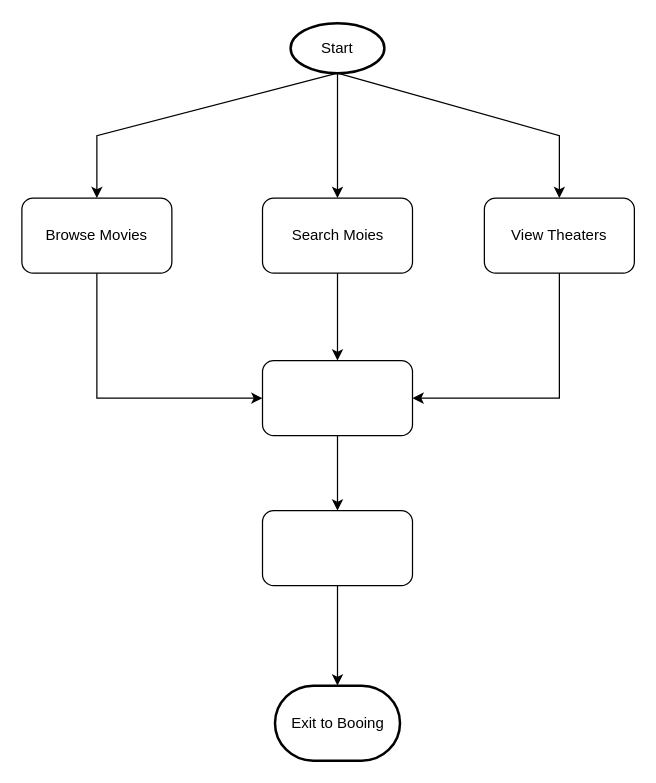
Image size: 656x783. Some labels were removed from this diagram. Each missing label, with the centre of its shape:
"Select Movie" belongs at point 336,397.
"Select Showtime" belongs at point 336,547.
